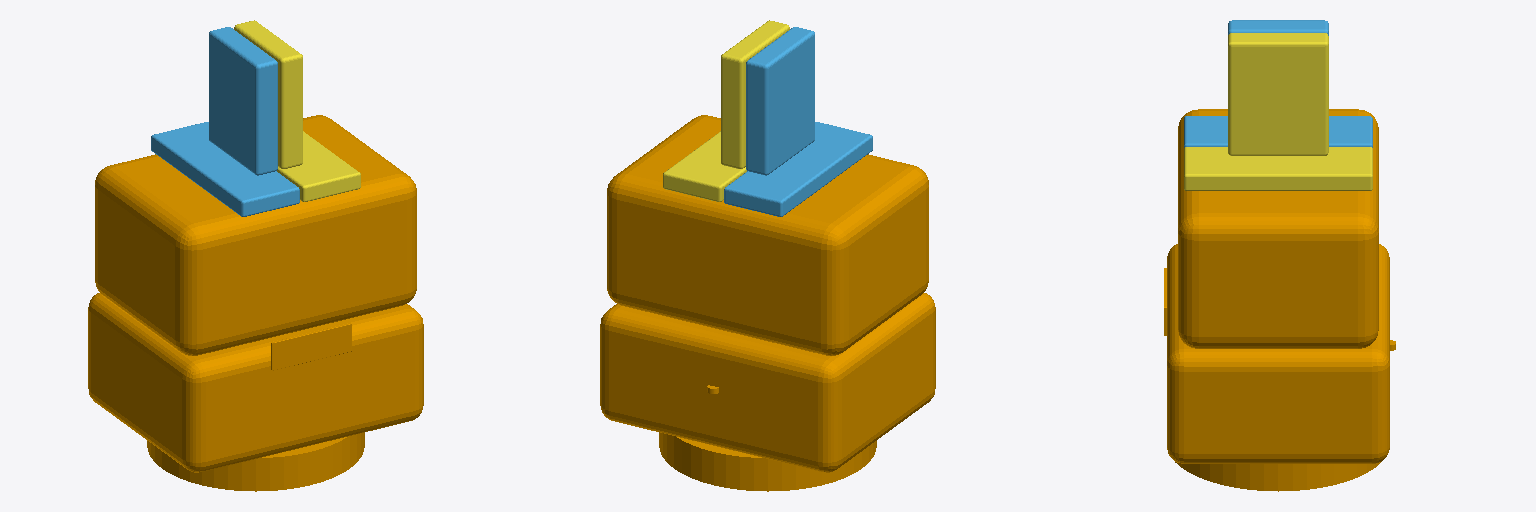
robot.urdf — onrobot_2fg7_106376:
<?xml version="1.0"?>
<robot name="onrobot_2fg7_106376">
<link name="mount"><visual ><geometry ><mesh filename="../meshes/mount.obj"/></geometry></visual><collision ><origin xyz="0 0 0.006" rpy="0 0 0"/><geometry ><cylinder radius="0.0355" length="0.012"/></geometry></collision><collision ><origin xyz="0 0 0.0555" rpy="0 0 0"/><geometry ><box size="0.09 0.071 0.087"/></geometry></collision></link>
<link name="left_finger"><visual ><geometry ><mesh filename="../meshes/left_finger.obj"/></geometry></visual><collision ><origin xyz="-0.0115 0 0.102" rpy="0 0 0"/><geometry ><box size="0.022 0.06 0.006"/></geometry></collision><collision ><origin xyz="-0.00475 0 0.125" rpy="0 0 0"/><geometry ><box size="0.0085 0.032 0.04"/></geometry></collision></link>
<link name="left_contact"></link>
<link name="right_finger"><visual ><geometry ><mesh filename="../meshes/right_finger.obj"/></geometry></visual><collision ><origin xyz="0.0115 0 0.102" rpy="0 0 0"/><geometry ><box size="0.022 0.06 0.006"/></geometry></collision><collision ><origin xyz="0.00475 0 0.125" rpy="0 0 0"/><geometry ><box size="0.0085 0.032 0.04"/></geometry></collision></link>
<link name="right_contact"></link>
<link name="tcp"></link>
<joint name="finger_joint" type="prismatic"><parent link="mount"/><child link="left_finger"/><origin xyz="0 0 0" rpy="0 0 0"/><axis xyz="-1 0 0"/><limit lower="0" upper="0.019" velocity="0.225" effort="140"/></joint>
<joint name="left_contact_joint" type="fixed"><parent link="left_finger"/><child link="left_contact"/><origin xyz="-0.0005 0 0.13" rpy="0 0 0"/></joint>
<joint name="finger_mirror_joint" type="prismatic"><parent link="mount"/><child link="right_finger"/><origin xyz="0 0 0" rpy="0 0 0"/><axis xyz="1 0 0"/><limit lower="0" upper="0.019" velocity="0.225" effort="140"/><mimic joint="finger_joint" multiplier="1" offset="0"/></joint>
<joint name="right_contact_joint" type="fixed"><parent link="right_finger"/><child link="right_contact"/><origin xyz="0.0005 0 0.13" rpy="0 0 0"/></joint>
<joint name="tcp_joint" type="fixed"><parent link="mount"/><child link="tcp"/><origin xyz="0 0 0.13" rpy="0 0 0"/></joint>
</robot>

--- What the picture shows (computed from the rendered views, not written in the file) ---
Views: 3 orthographic renders of the robot side by side, from view 1: azimuth 30°, elevation 25°; view 2: azimuth 150°, elevation 25°; view 3: azimuth 270°, elevation 25°.
Robot: onrobot_2fg7_106376 — 6 links, 5 joints (2 prismatic, 3 fixed); root link mount; default pose: every joint at zero.
Links seen in each view (by area): view 1: mount, left_finger, right_finger; view 2: mount, left_finger, right_finger; view 3: mount, right_finger, left_finger.
Boxes of the visible links, x1=… form: mount: x1=88, y1=115, x2=423, y2=491; left_finger: x1=151, y1=27, x2=299, y2=216; right_finger: x1=234, y1=20, x2=360, y2=201; mount: x1=600, y1=115, x2=935, y2=491; left_finger: x1=724, y1=27, x2=872, y2=216; right_finger: x1=663, y1=20, x2=789, y2=201; mount: x1=1164, y1=109, x2=1395, y2=491; right_finger: x1=1184, y1=33, x2=1372, y2=190; left_finger: x1=1184, y1=20, x2=1372, y2=147.
Size in the robot's own frame: 0.09 by 0.074 by 0.145 metres.
3 mesh visuals loaded from 3 distinct referenced files (3 OBJ).
